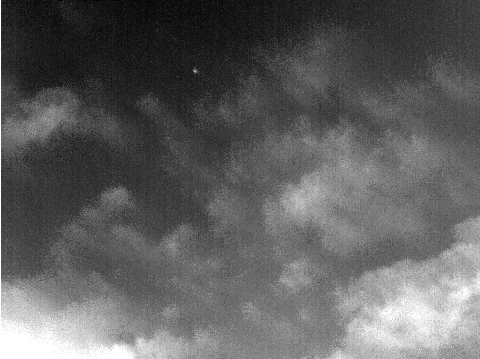dim target: (190, 66, 198, 74)
